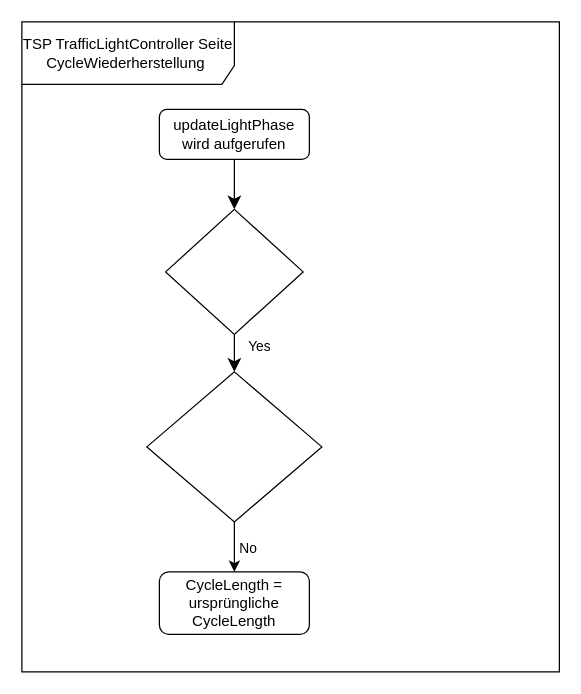
The diagram is 581 pixels wide and 694 high, and some of its shapes have lost their labels. The shapes that lost their labels are listed below. From the top down, each one's centre as x and y in pixels, then its label:
At (233,271): "Ampelphase == grün?".
At (234,446): "urspüngliche CycleLength == Cyclelength".
